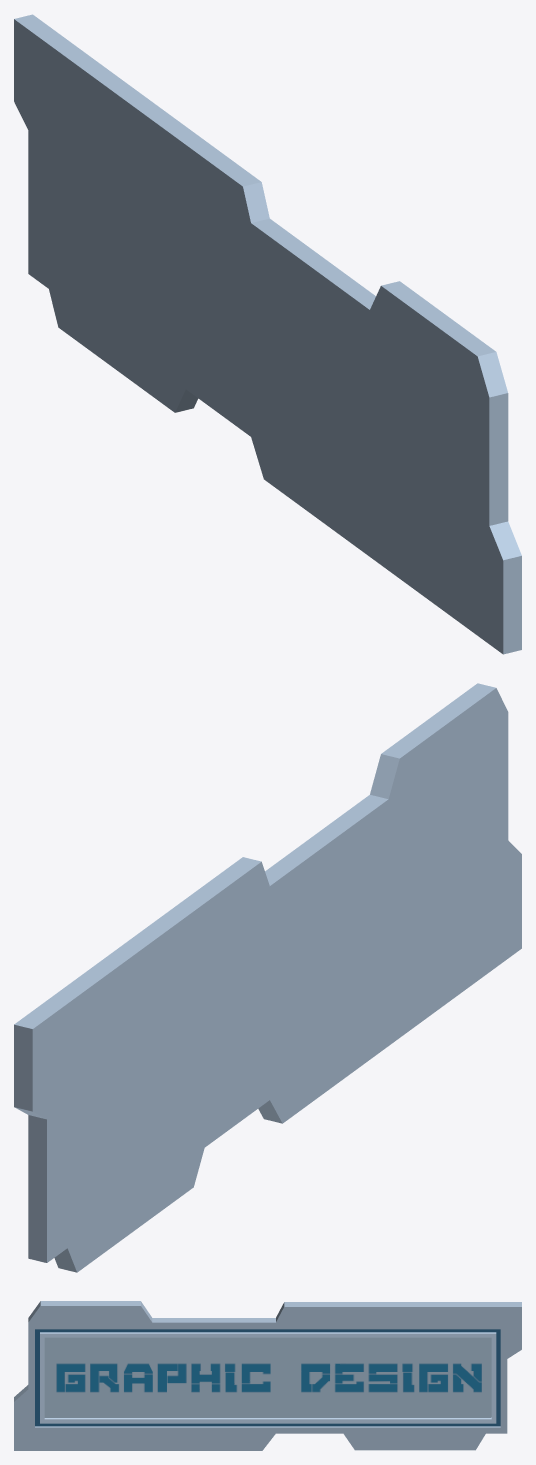
File: intunecat-titlu-gd.glb
3 renders of one model, top to bottom at view 1: azimuth 30°, elevation 25°; view 2: azimuth 150°, elevation 25°; view 3: azimuth 270°, elevation 25°, orthographic. The views are drawn at different scales.
Parts seen in each view (by area): view 1: holograma; view 2: holograma; view 3: textbox, holograma, rama_interioara, rama_interioara.001.
Boxes of the visible parts, <box> form: holograma: <box>14,14,521,654</box>; holograma: <box>14,683,521,1272</box>; textbox: <box>44,1337,491,1417</box>; holograma: <box>14,1301,521,1450</box>; rama_interioara: <box>40,1332,496,1423</box>; rama_interioara.001: <box>35,1329,500,1426</box>.
Size of the model in its own units: 0.1215 by 1.73 by 5.48.
4 materials, 1 textured.
